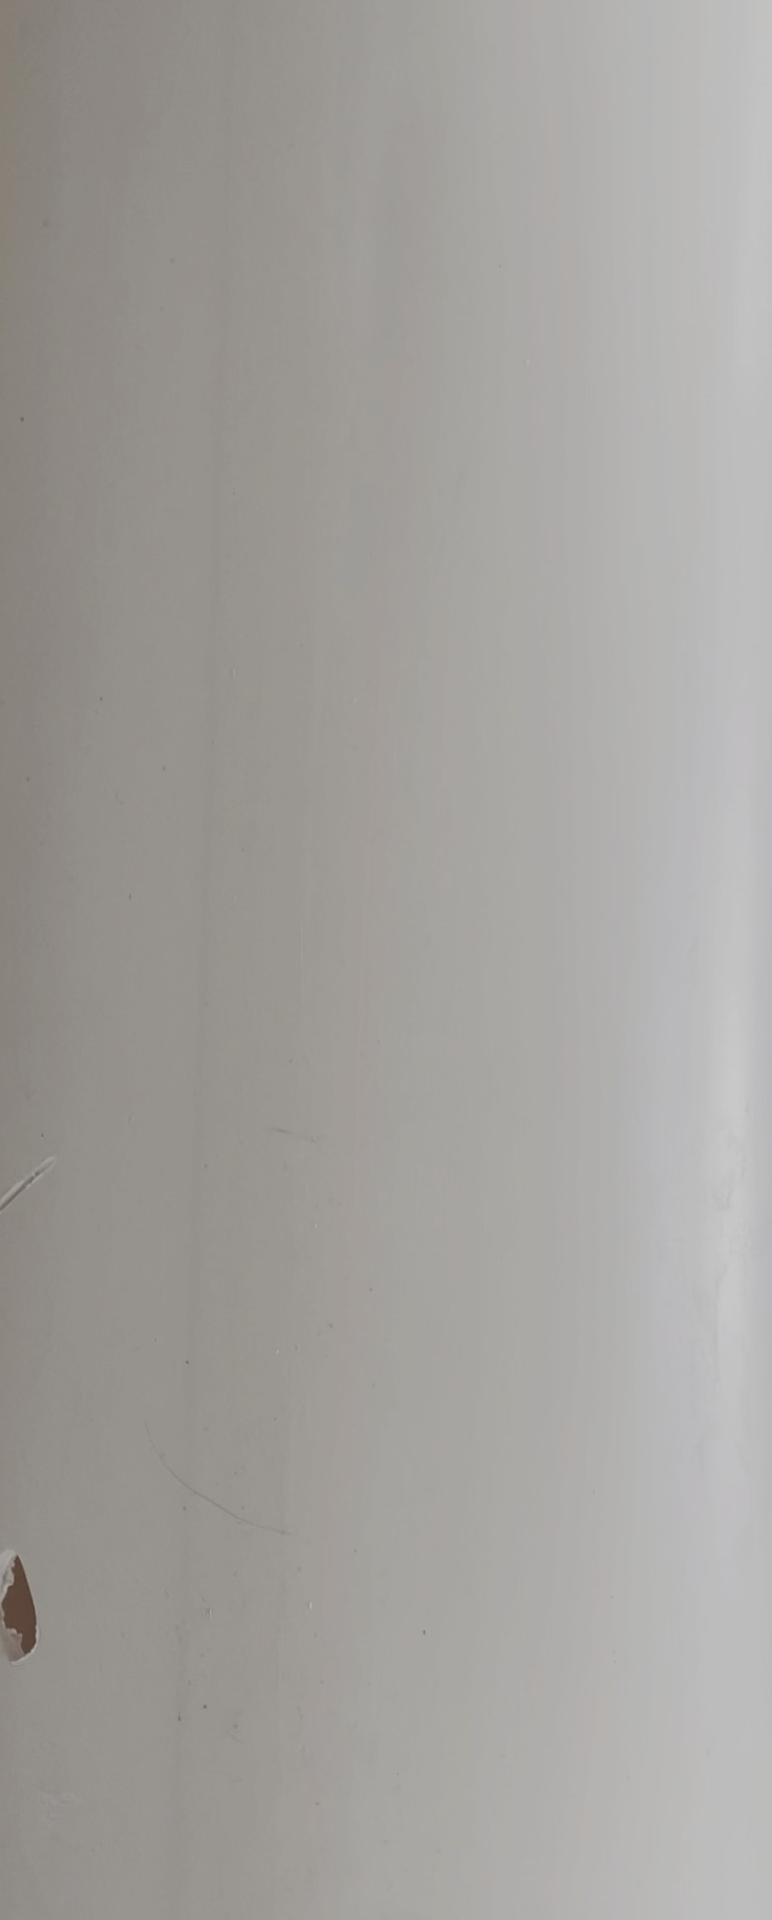kongdong: (1, 1542, 51, 1690)
